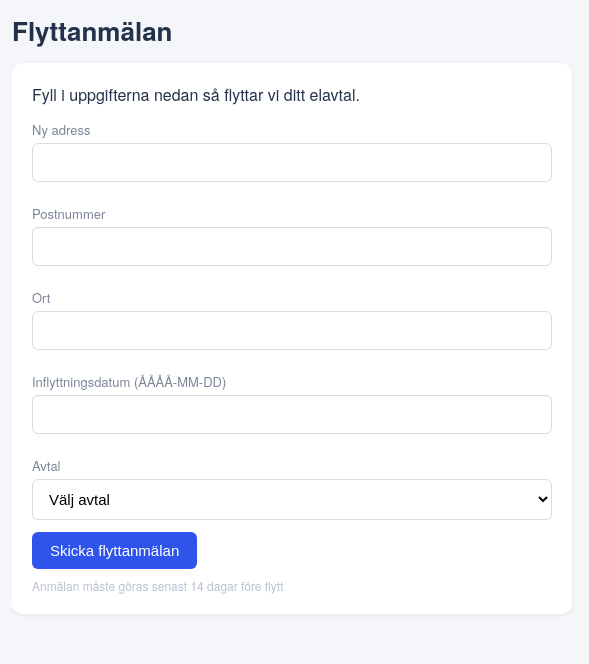
Test: MoveFormView › skickar anmälan och visar referensnumret
In the field labelled "Ny adress": x=292, y=162 [32,143,552,182], type "Solvägen 12"
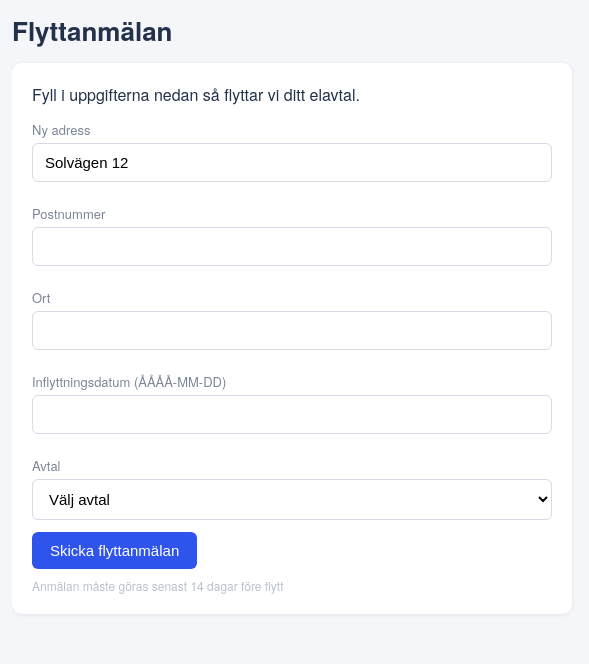
In the field labelled "Postnummer": x=292, y=246 [32,227,552,266], type "80267"
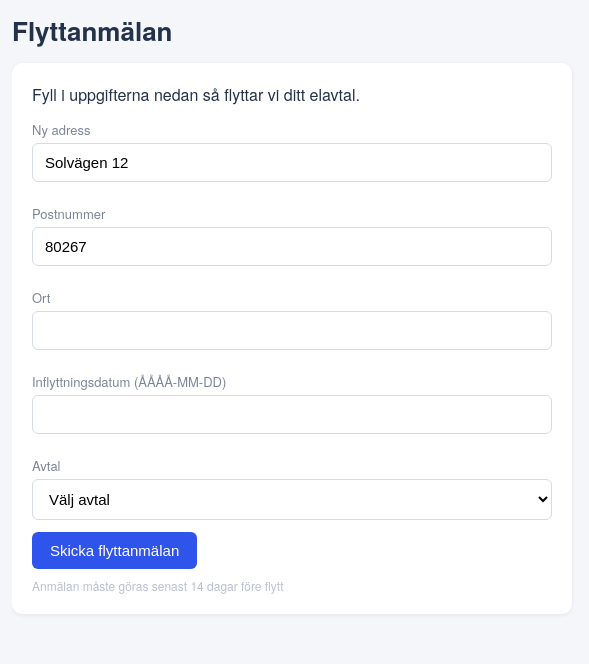
In the field labelled "Ort": x=292, y=330 [32,311,552,350], type "Gävle"
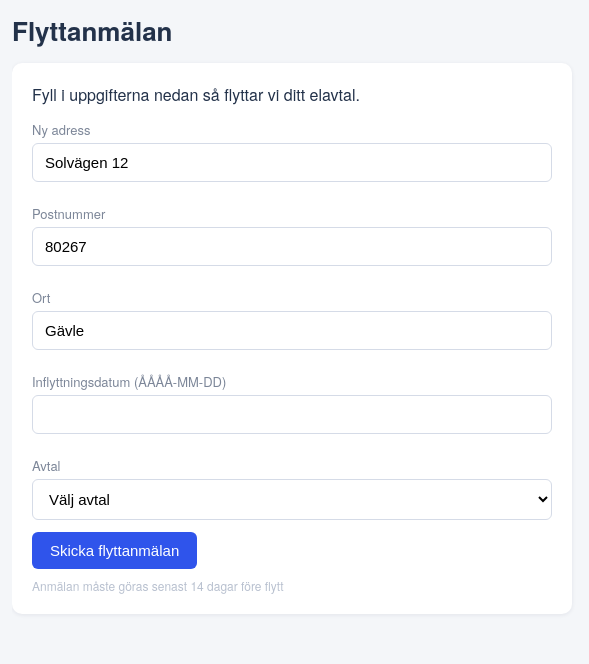
In the field labelled "Inflyttningsdatum (ÅÅÅÅ-MM-DD)": x=292, y=414 [32,395,552,434], type "2999-01-01"
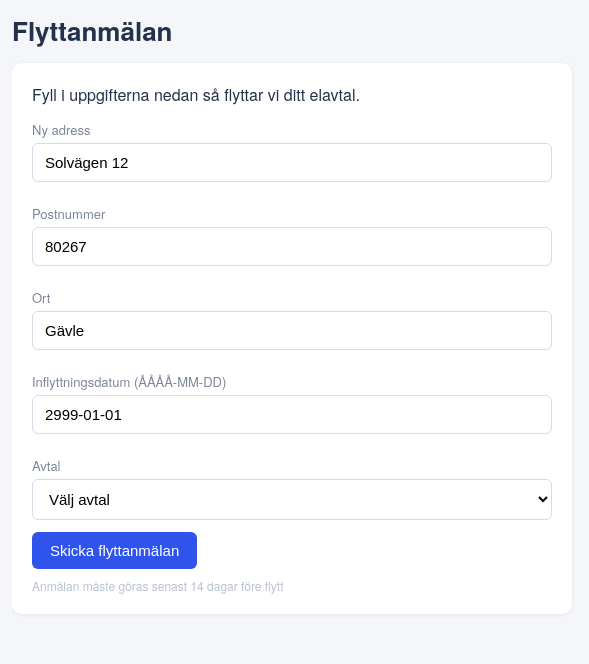
Select "Rörligt pris" in the dropdown labelled "Avtal": x=292, y=500 [32,479,552,520]
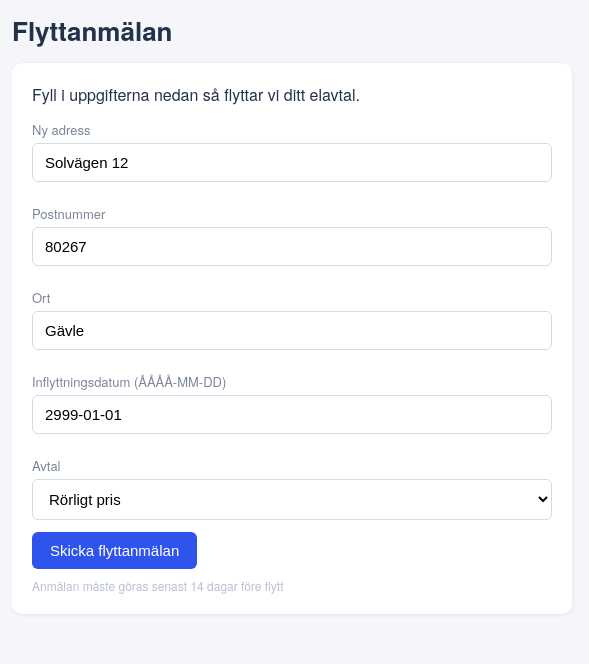
Click the button "Skicka flyttanmälan": x=115, y=550 [32,532,197,569]
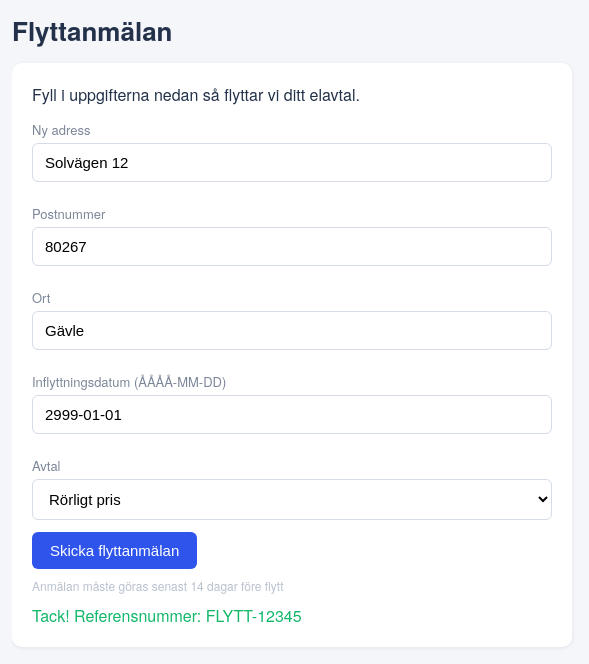
Result: the text "Tack! Referensnummer: FLYTT-12345" is shown at [32,604,302,627]
